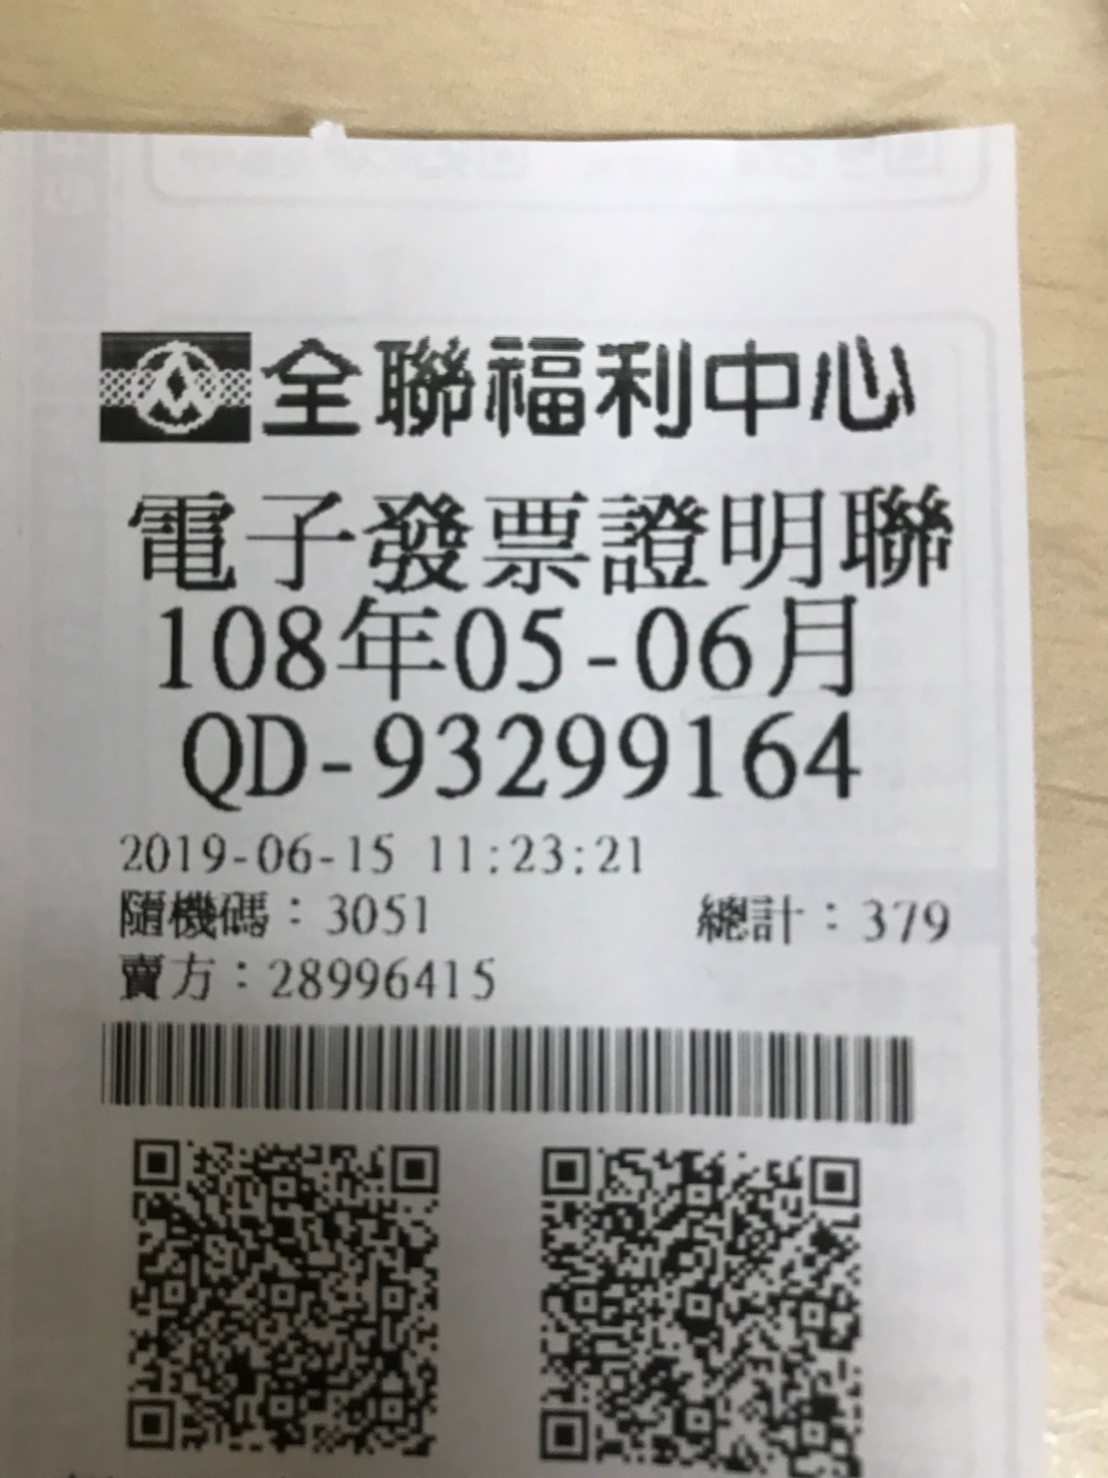Date_New: (149, 591, 864, 695)
Number_New: (370, 708, 871, 800)
